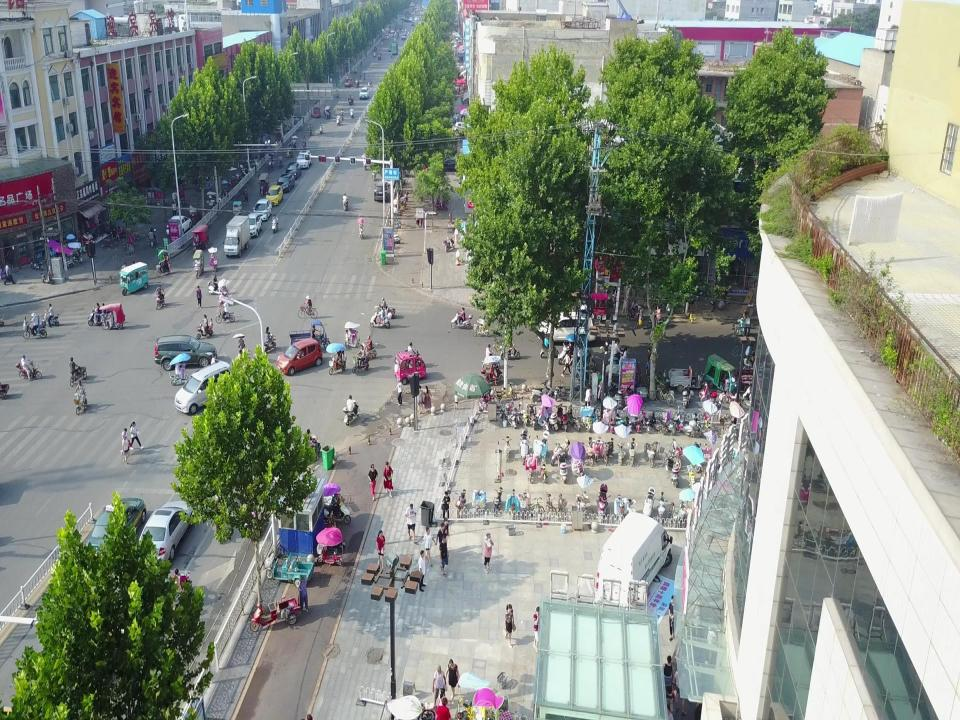car: (84, 498, 146, 557), (138, 502, 194, 564), (174, 360, 232, 415), (154, 335, 217, 371), (539, 312, 596, 346), (276, 337, 322, 376), (166, 215, 192, 236), (252, 199, 272, 221), (276, 173, 295, 194), (246, 213, 262, 237), (374, 179, 390, 203), (265, 185, 283, 206), (283, 162, 301, 180), (296, 150, 312, 170)
truck: (223, 215, 251, 257)
van: (595, 511, 672, 610)
